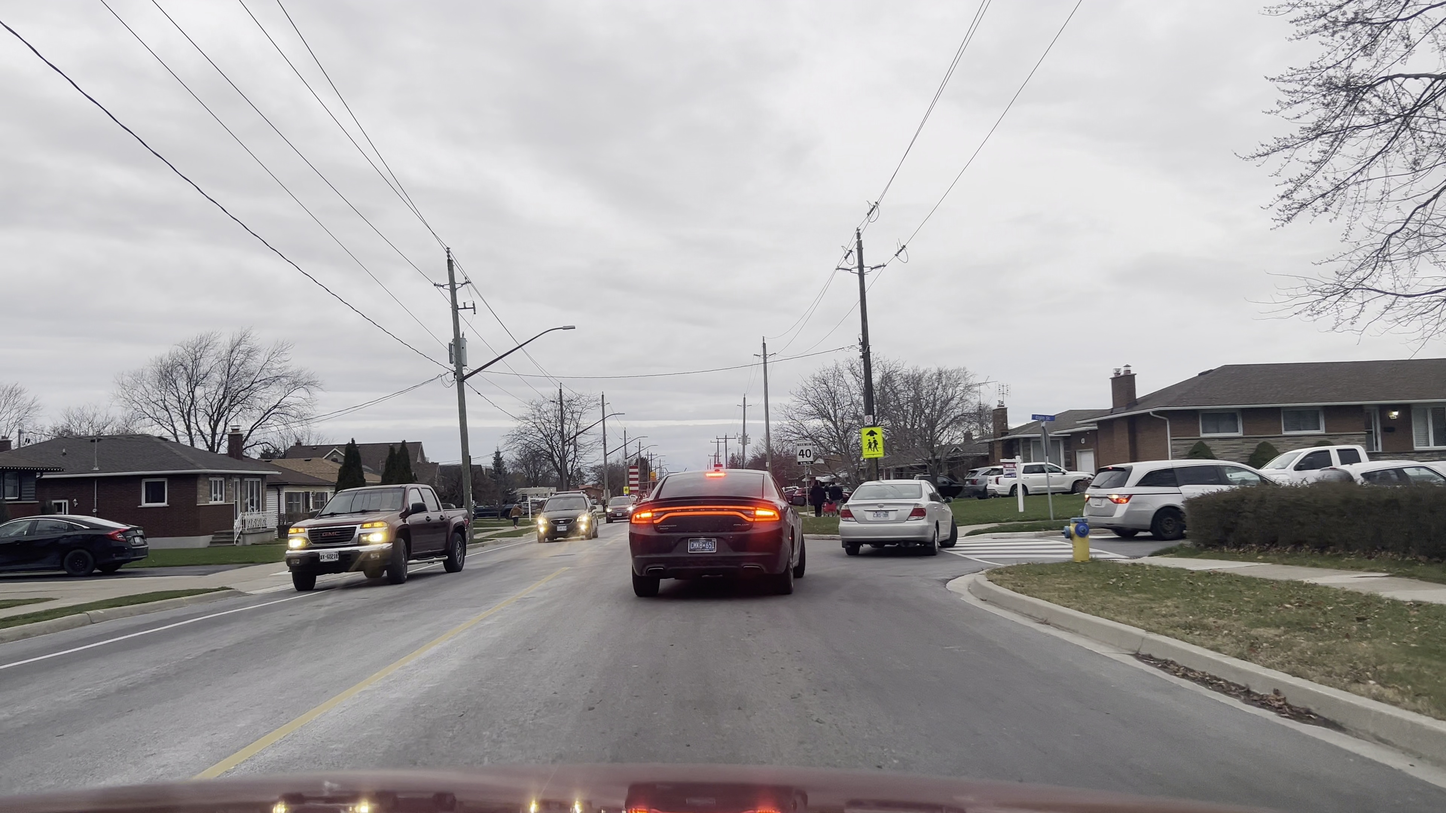construction: (619, 462, 673, 504)
